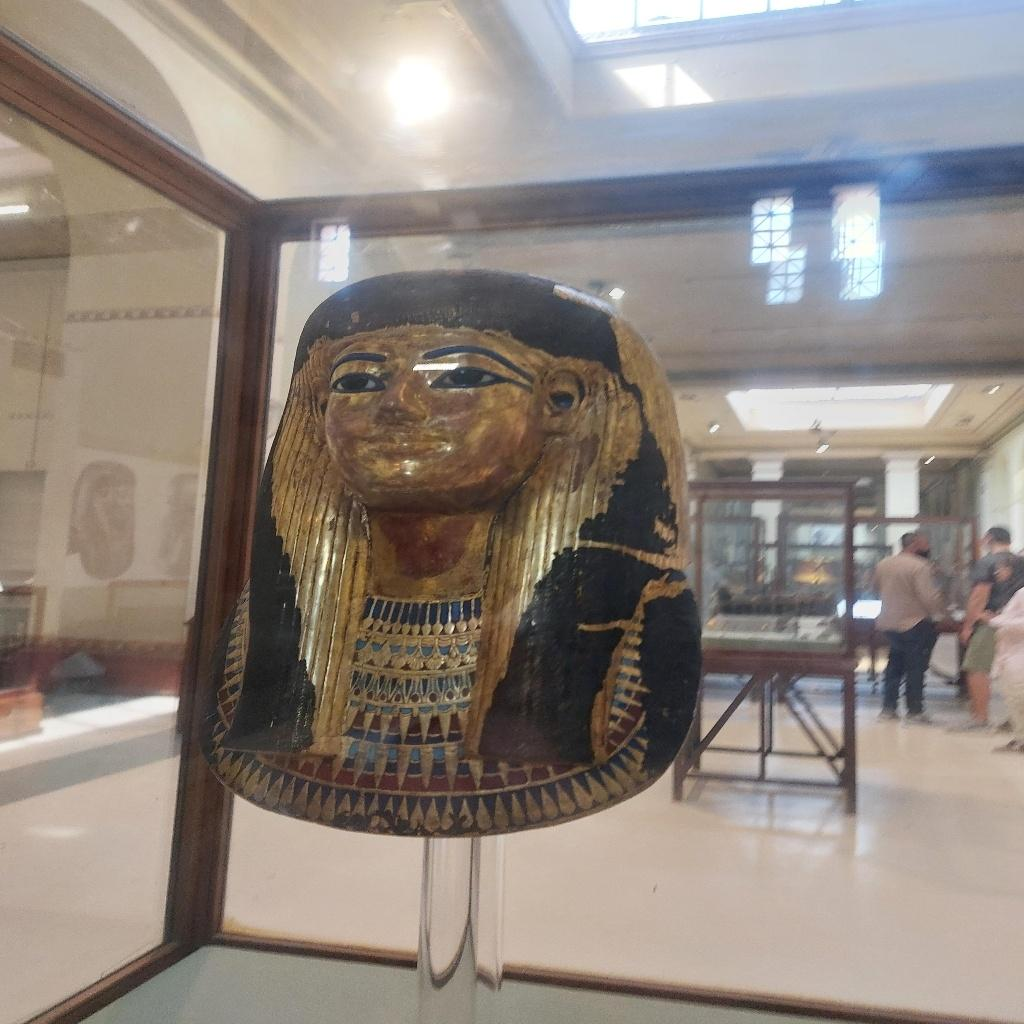Mask of Thuya: (196, 266, 706, 838)
